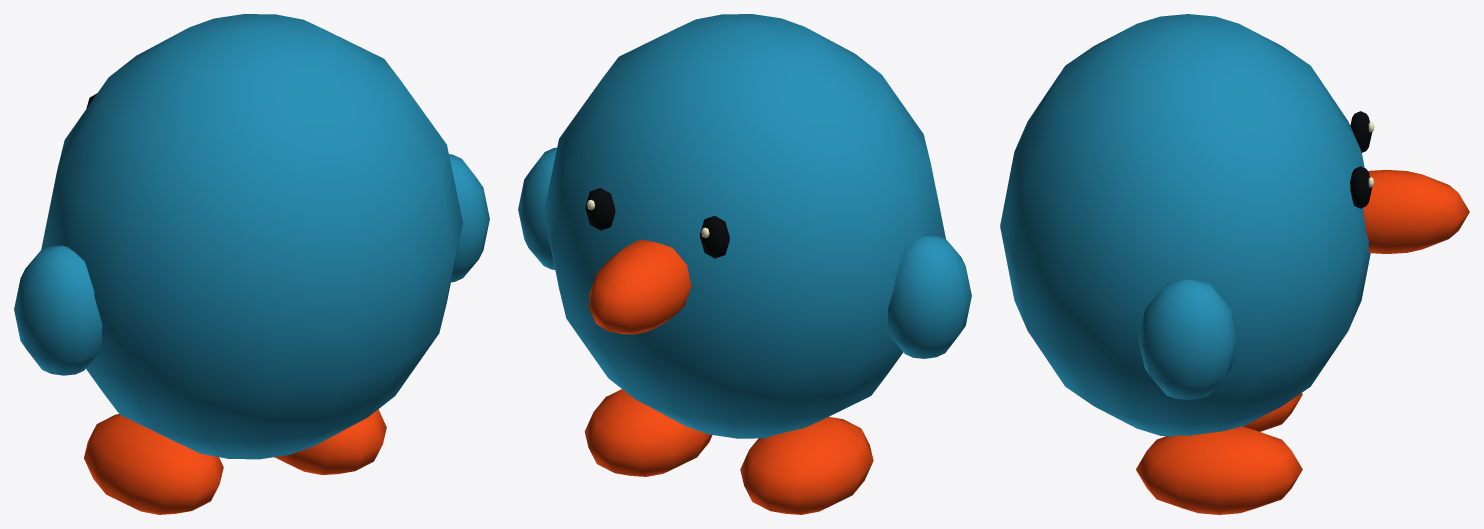
Rendered from player.gltf.
3 views of the same model, side by side, from view 1: azimuth 30°, elevation 25°; view 2: azimuth 150°, elevation 25°; view 3: azimuth 270°, elevation 25° (orthographic). The views are drawn at different scales.
Parts seen in each view (by area): view 1: Body, Foot_R, Hand_R, Foot_L, Hand_L; view 2: Body, Foot_R, Hand_R, Nose, Foot_L, Hand_L, Eye_L, Eye_R; view 3: Body, Foot_L, Hand_L, Nose, Foot_R, Eye_L, Eye_R.
Part boxes in pixels (left/top/right/bottom): Body: left=41, top=14, right=462, bottom=459; Foot_R: left=84, top=414, right=223, bottom=514; Hand_R: left=14, top=245, right=102, bottom=375; Foot_L: left=274, top=409, right=386, bottom=475; Hand_L: left=449, top=154, right=489, bottom=282; Body: left=543, top=14, right=945, bottom=438; Foot_R: left=740, top=416, right=873, bottom=514; Hand_R: left=888, top=234, right=971, bottom=358; Nose: left=588, top=240, right=691, bottom=334; Foot_L: left=584, top=389, right=712, bottom=476; Hand_L: left=518, top=147, right=556, bottom=269; Eye_L: left=585, top=188, right=615, bottom=230; Eye_R: left=700, top=215, right=729, bottom=258; Body: left=1000, top=14, right=1370, bottom=436; Foot_L: left=1136, top=426, right=1302, bottom=514; Hand_L: left=1138, top=279, right=1237, bottom=399; Nose: left=1363, top=169, right=1469, bottom=253; Foot_R: left=1243, top=393, right=1302, bottom=431; Eye_L: left=1350, top=166, right=1372, bottom=208; Eye_R: left=1350, top=111, right=1372, bottom=152.
Bounding box in the file's own units: 0.96 × 0.925 × 0.9.
1 material, 1 textured.
